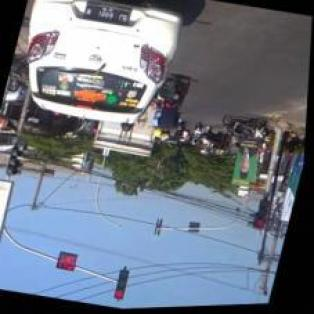Semoforo Rojo: (254, 200, 274, 232), (116, 268, 134, 302)
